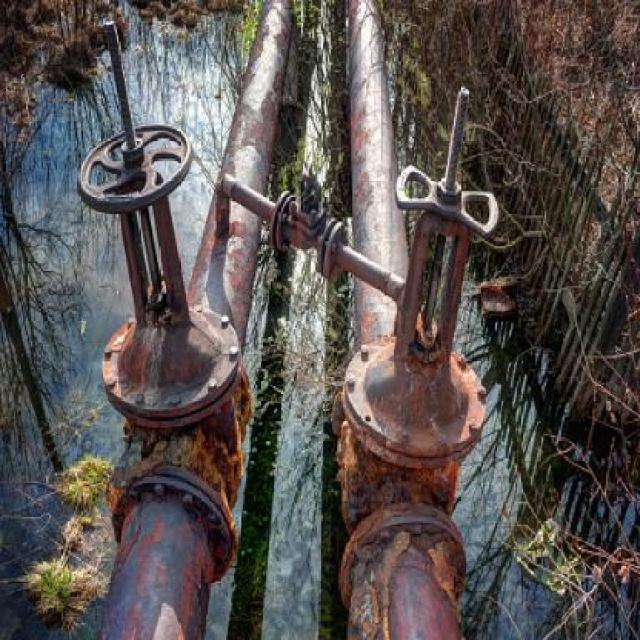corrosion: (75, 4, 502, 640)
